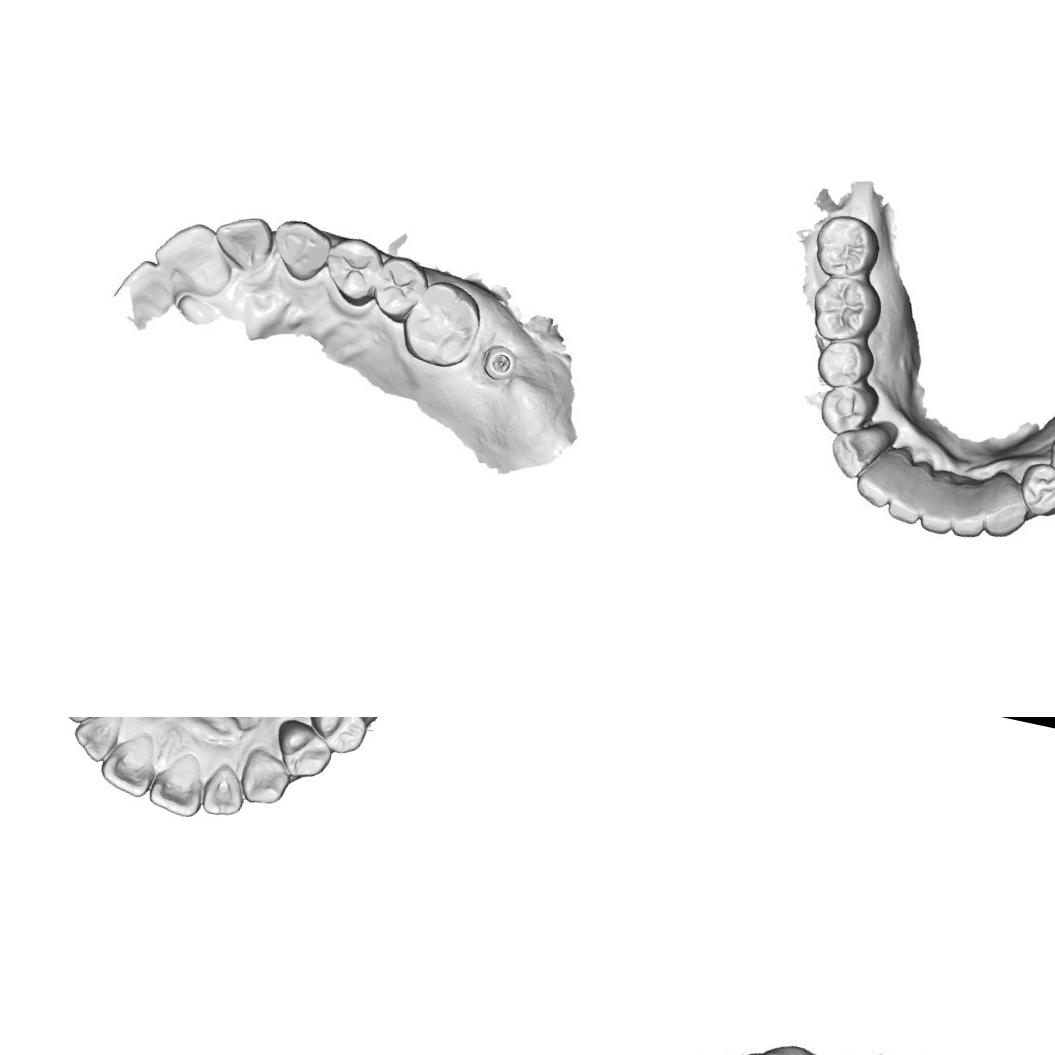canine: (269, 216, 334, 284), (234, 742, 296, 810), (978, 468, 1034, 539), (824, 422, 886, 478)
implant: (475, 340, 523, 390)
incisor: (147, 216, 239, 300), (95, 722, 164, 801), (143, 745, 211, 822), (210, 208, 276, 280), (852, 439, 914, 507), (920, 465, 970, 540), (198, 757, 253, 823), (888, 457, 940, 524), (950, 478, 999, 542), (66, 717, 127, 768)
molar: (400, 278, 484, 369), (802, 270, 888, 348), (806, 210, 886, 282)
premolar: (268, 717, 340, 786), (322, 236, 382, 304), (812, 376, 877, 436), (372, 255, 426, 318), (815, 334, 876, 388), (300, 717, 374, 759), (1017, 464, 1055, 523)
